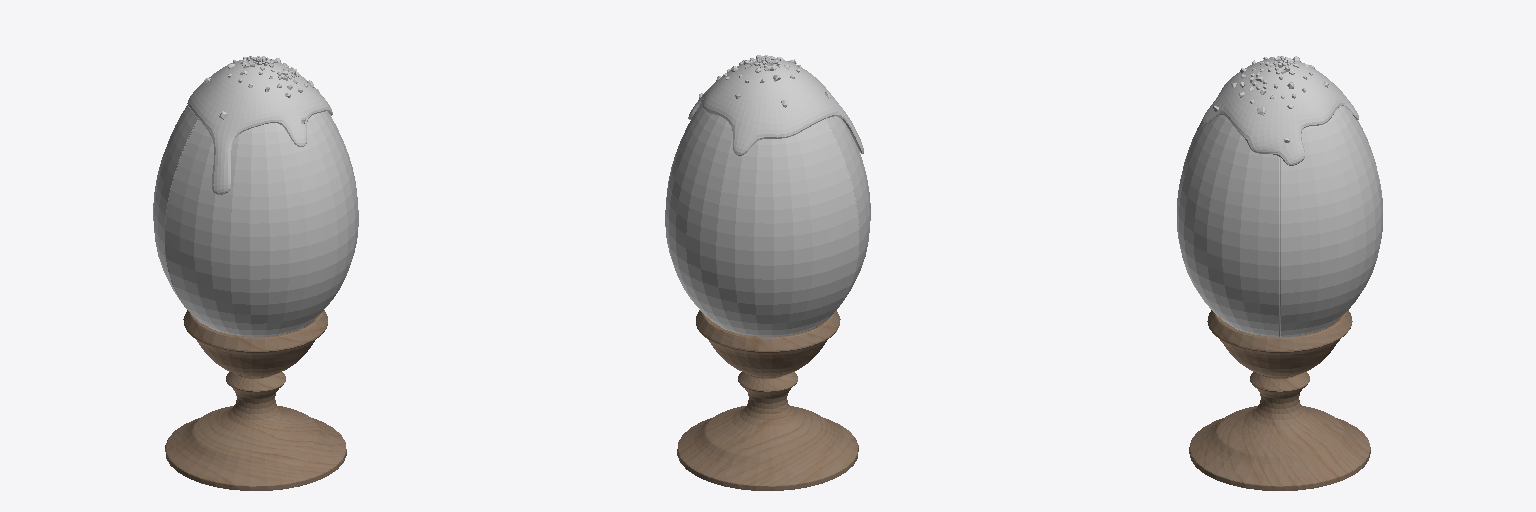
3 renders of one model, left to right at view 1: azimuth 30°, elevation 25°; view 2: azimuth 150°, elevation 25°; view 3: azimuth 270°, elevation 25°, orthographic.
Parts seen in each view (by area): view 1: Easter_Egg_2024, Holder, Chocolate_Glaze, Hazelnuts; view 2: Easter_Egg_2024, Holder, Chocolate_Glaze, Hazelnuts; view 3: Easter_Egg_2024, Holder, Chocolate_Glaze, Hazelnuts.
Part boxes in pixels (x1,y1,x2,y2): Easter_Egg_2024: (153,105,358,336); Holder: (165,310,346,490); Chocolate_Glaze: (187,59,332,194); Hazelnuts: (204,56,318,123); Easter_Egg_2024: (665,102,870,336); Holder: (677,310,858,490); Chocolate_Glaze: (688,58,863,155); Hazelnuts: (699,55,830,107); Easter_Egg_2024: (1177,106,1382,336); Holder: (1189,310,1370,490); Chocolate_Glaze: (1202,58,1358,165); Hazelnuts: (1213,56,1328,142).
Size of the model in its own units: 0.0579 by 0.1197 by 0.0569.
Materials: 3 (1 with a texture image).